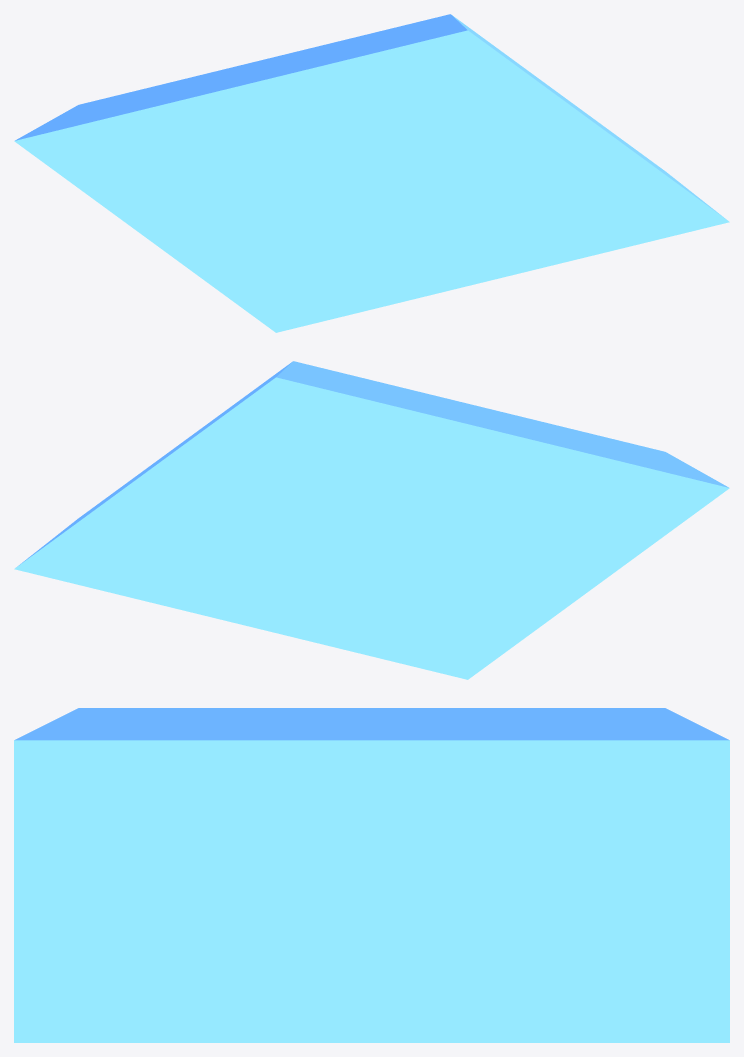
The model's file is arena_module.glb.
3 renders of one model, top to bottom at view 1: azimuth 30°, elevation 25°; view 2: azimuth 150°, elevation 25°; view 3: azimuth 270°, elevation 25°, orthographic. The views are drawn at different scales.
Visible parts, largest first — view 1: arena_module; view 2: arena_module; view 3: arena_module.
Part boxes in pixels (x1,y1,x2,y2): arena_module: (14, 14, 729, 332); arena_module: (14, 361, 729, 679); arena_module: (14, 708, 729, 1042).
Size of the model in its own units: 2.4 by 0.22 by 2.4.
